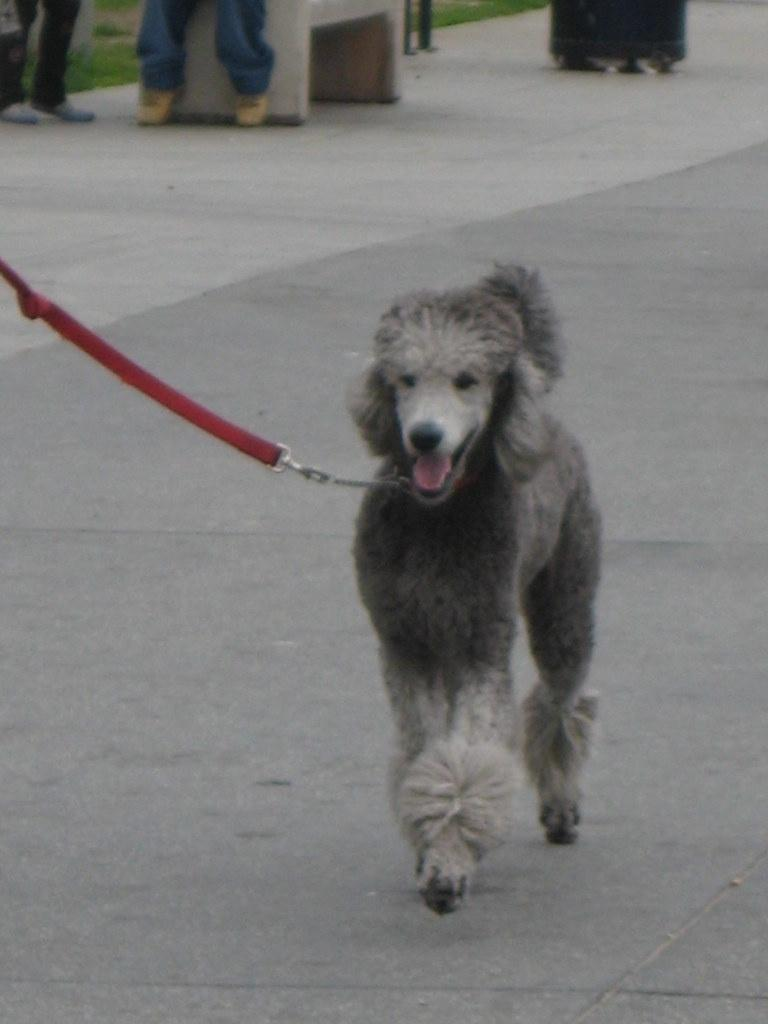dog: (352, 265, 599, 913)
